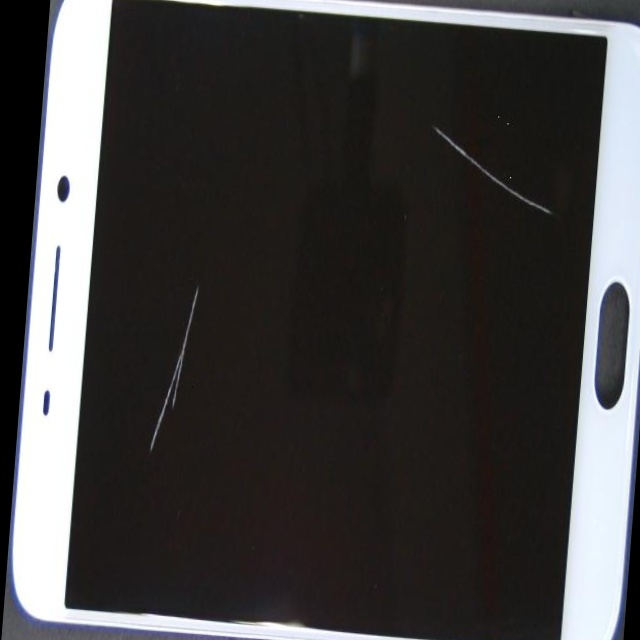scratch: (151, 8, 640, 306), (115, 8, 275, 535)
